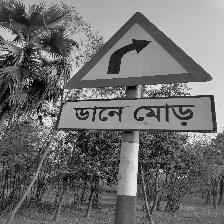Right-turn: (61, 11, 217, 132)
